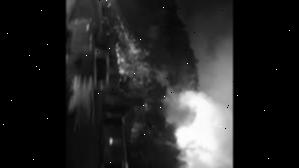fire: (113, 20, 165, 91)
